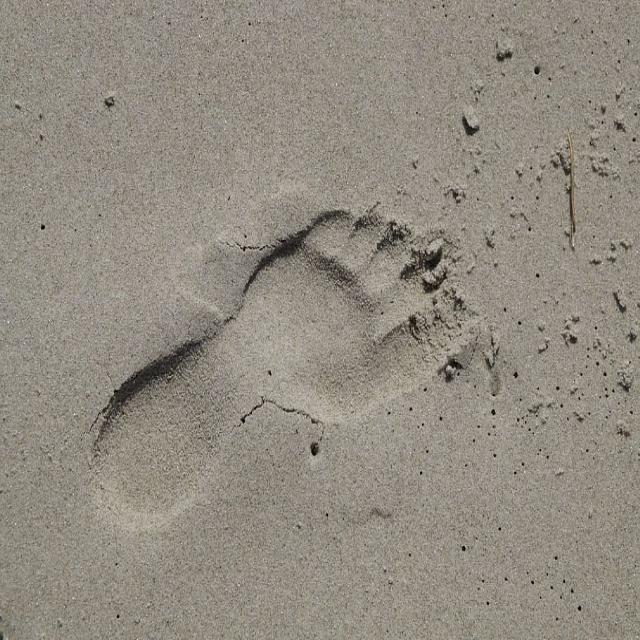human_foot_print: (10, 120, 563, 572)
